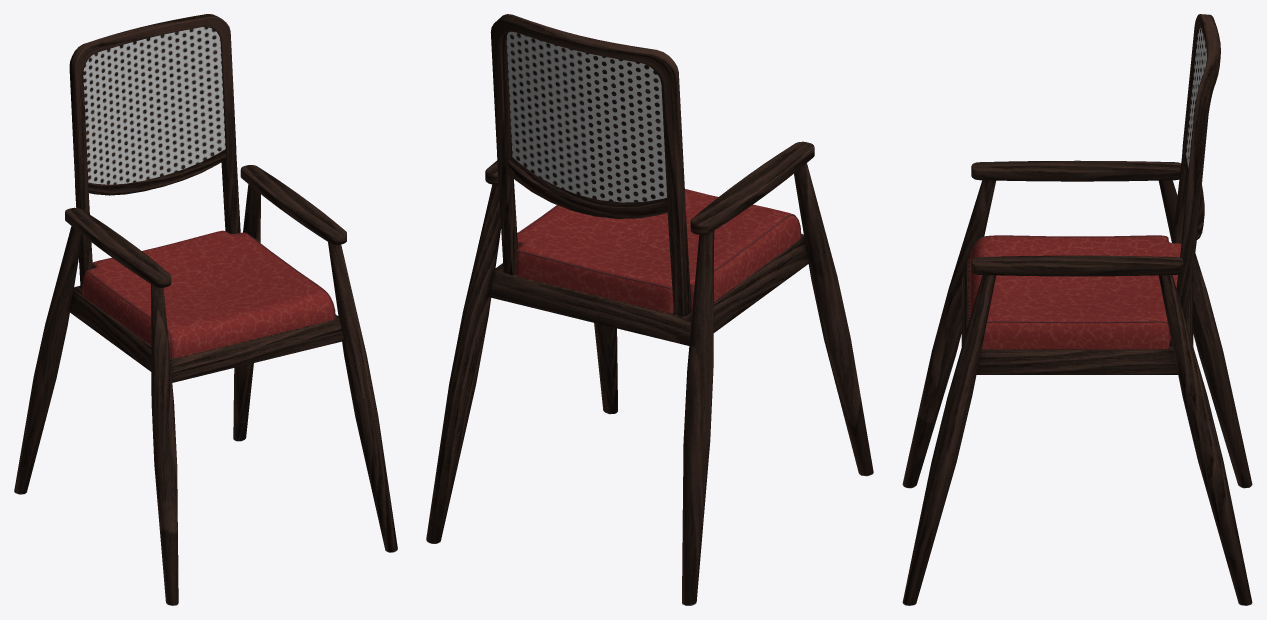
The model's file is Restaurant_chair.glb.
The picture shows the model from 3 angles, left to right: view 1: azimuth 30°, elevation 25°; view 2: azimuth 150°, elevation 25°; view 3: azimuth 270°, elevation 25°; orthographic projection. The views are drawn at different scales.
Visible parts, largest first — view 1: SM_Restaurant_chair_1, SM_Restaurant_chair_2; view 2: SM_Restaurant_chair_1, SM_Restaurant_chair_2; view 3: SM_Restaurant_chair_1, SM_Restaurant_chair_2.
Boxes of the visible parts, x1,y1,x2,y2 form: SM_Restaurant_chair_1: (14, 14, 397, 605); SM_Restaurant_chair_2: (82, 230, 335, 358); SM_Restaurant_chair_1: (426, 14, 873, 605); SM_Restaurant_chair_2: (516, 189, 801, 313); SM_Restaurant_chair_1: (902, 14, 1252, 605); SM_Restaurant_chair_2: (970, 235, 1181, 349).
Size of the model in its own units: 0.3982 by 0.7416 by 0.4741.
1 material, 1 textured.
